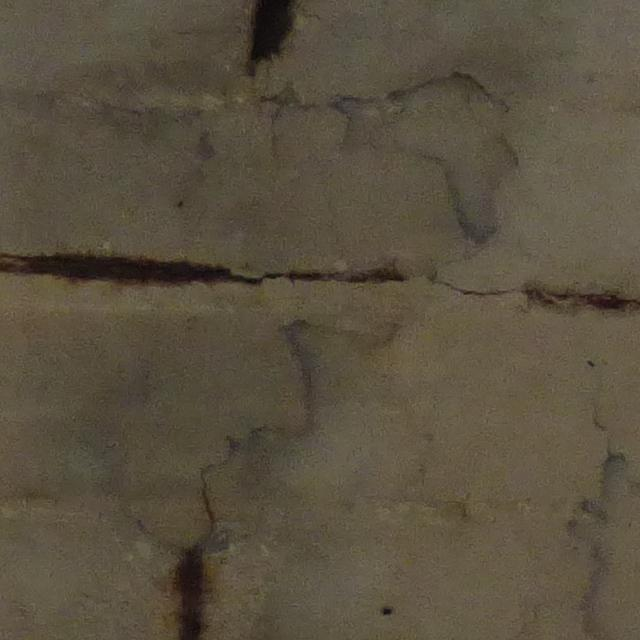Rust: (4, 246, 410, 293), (242, 1, 304, 81), (524, 280, 636, 319), (170, 544, 210, 638)
